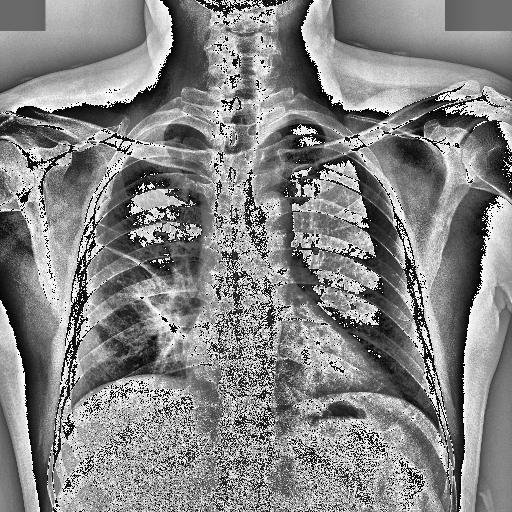0- Aortic enlargement: (248, 189, 291, 245)
13- Pulmonary fibrosis: (70, 218, 196, 373), (89, 240, 194, 362), (122, 283, 178, 340), (90, 241, 163, 282), (98, 220, 128, 238)
3- Cardiomegaly: (184, 344, 404, 413), (187, 332, 396, 397), (178, 336, 380, 390), (242, 192, 295, 250)
6- Infiltration: (70, 218, 196, 373), (89, 240, 194, 362)
